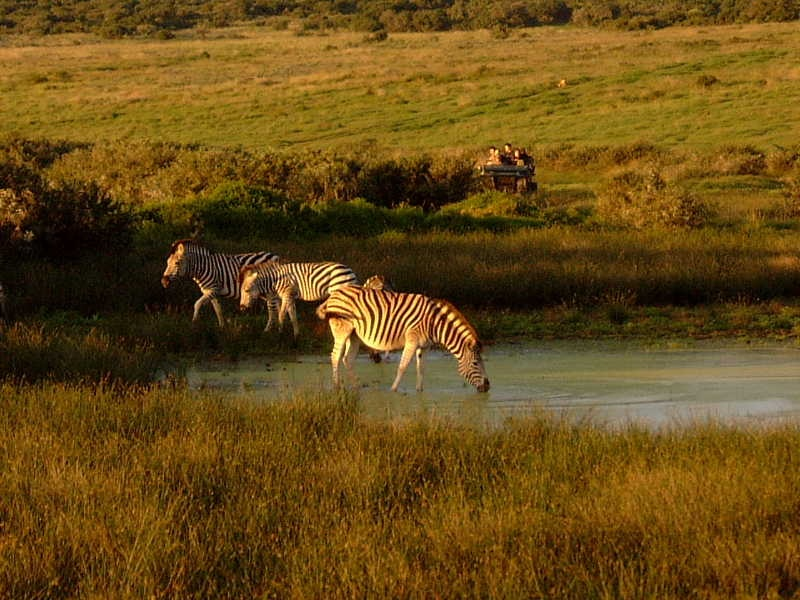zebra: (403, 345, 573, 467), (222, 285, 346, 377), (303, 299, 428, 376)
